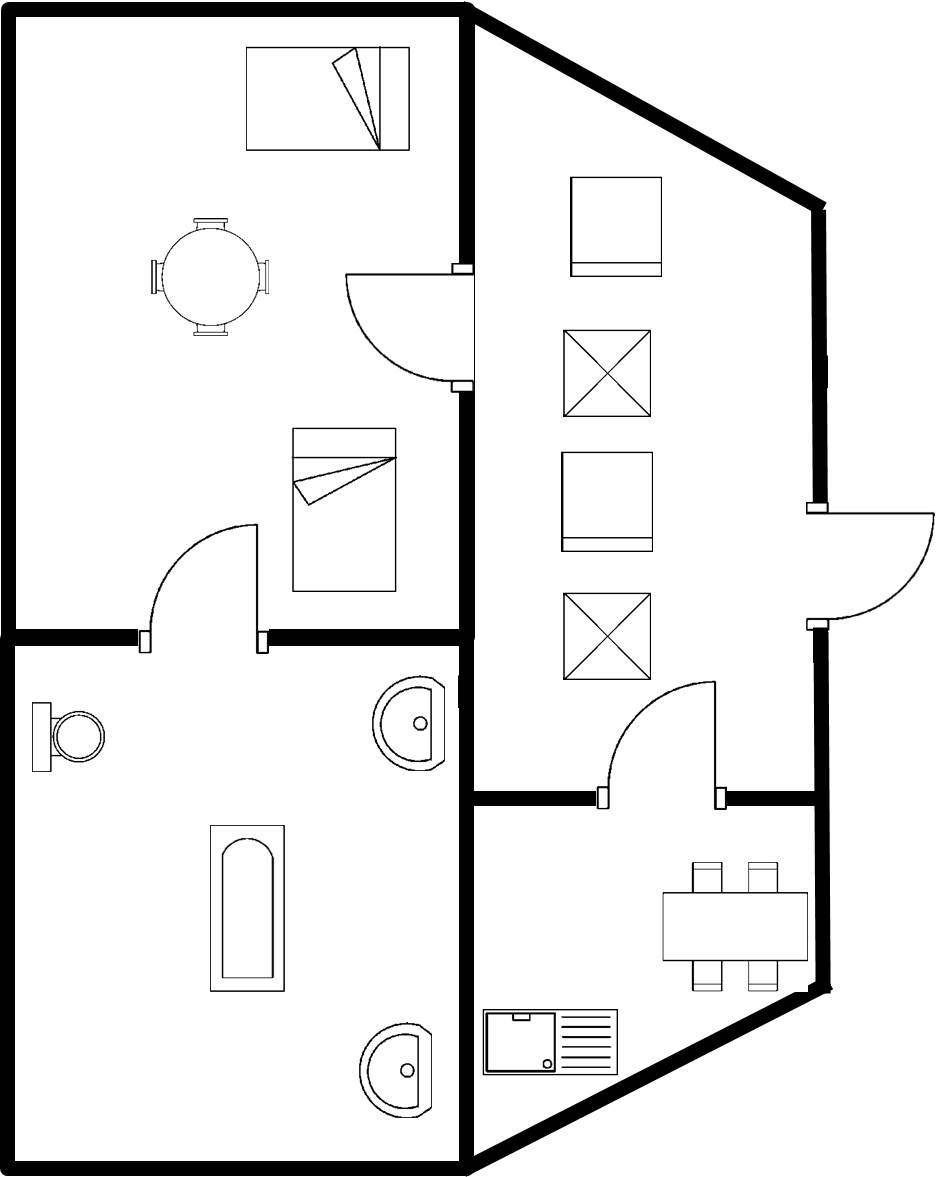bed: (237, 41, 422, 162), (285, 417, 407, 600)
coffee_table: (549, 317, 662, 427), (556, 587, 656, 687)
dining_table: (650, 854, 816, 1003)
large_sink: (22, 694, 110, 781)
round_table: (144, 209, 280, 346)
sink: (477, 1005, 626, 1085)
small_sink: (364, 665, 452, 782), (352, 1015, 440, 1126)
small_sofa: (563, 163, 671, 289), (549, 446, 663, 559)
tub: (198, 813, 296, 1003)
